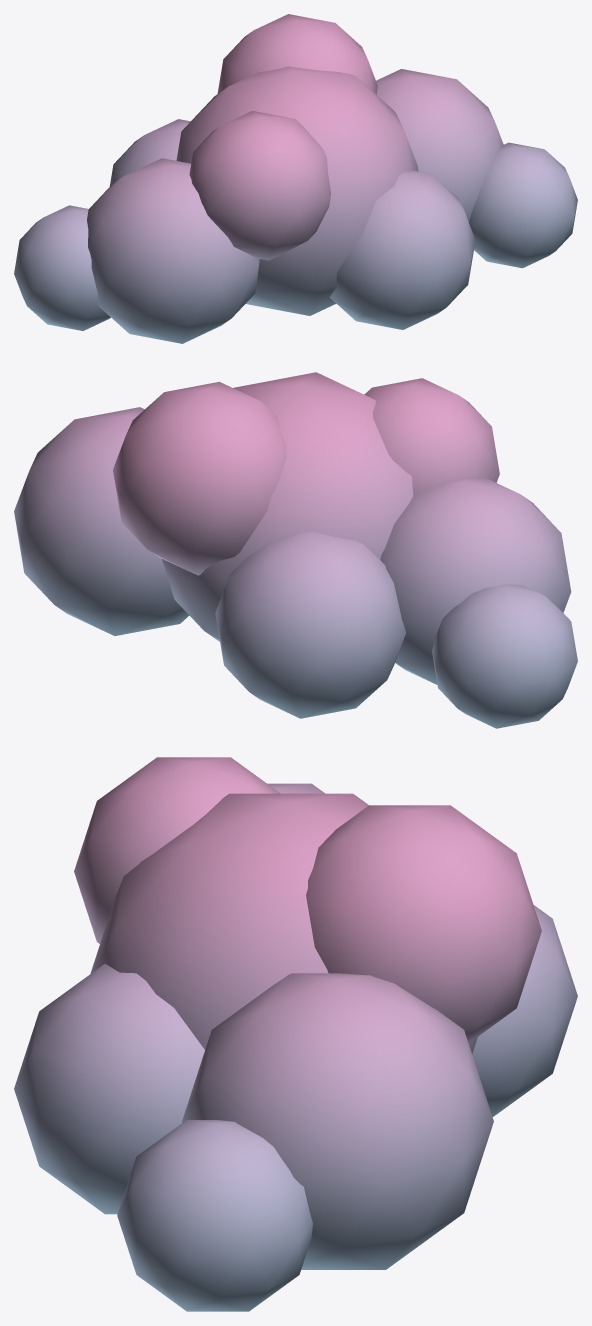
File: cotton_cloud.glb
The picture shows the model from 3 angles, top to bottom: view 1: azimuth 30°, elevation 25°; view 2: azimuth 150°, elevation 25°; view 3: azimuth 270°, elevation 25°; orthographic projection. The views are drawn at different scales.
Parts seen in each view (by area): view 1: cotton_cloud; view 2: cotton_cloud; view 3: cotton_cloud.
Boxes of the visible parts, <box> form: cotton_cloud: <box>14,14,577,343</box>; cotton_cloud: <box>14,372,577,728</box>; cotton_cloud: <box>14,757,577,1311</box>.
Size of the model in its own units: 3.8 by 1.8 by 2.35.
